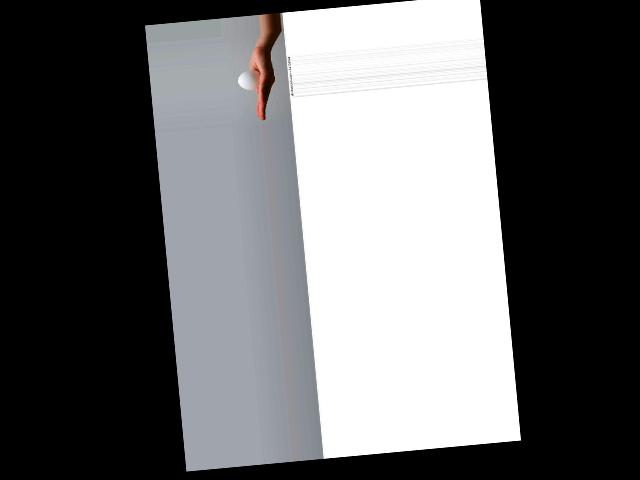egg: (237, 70, 262, 90)
